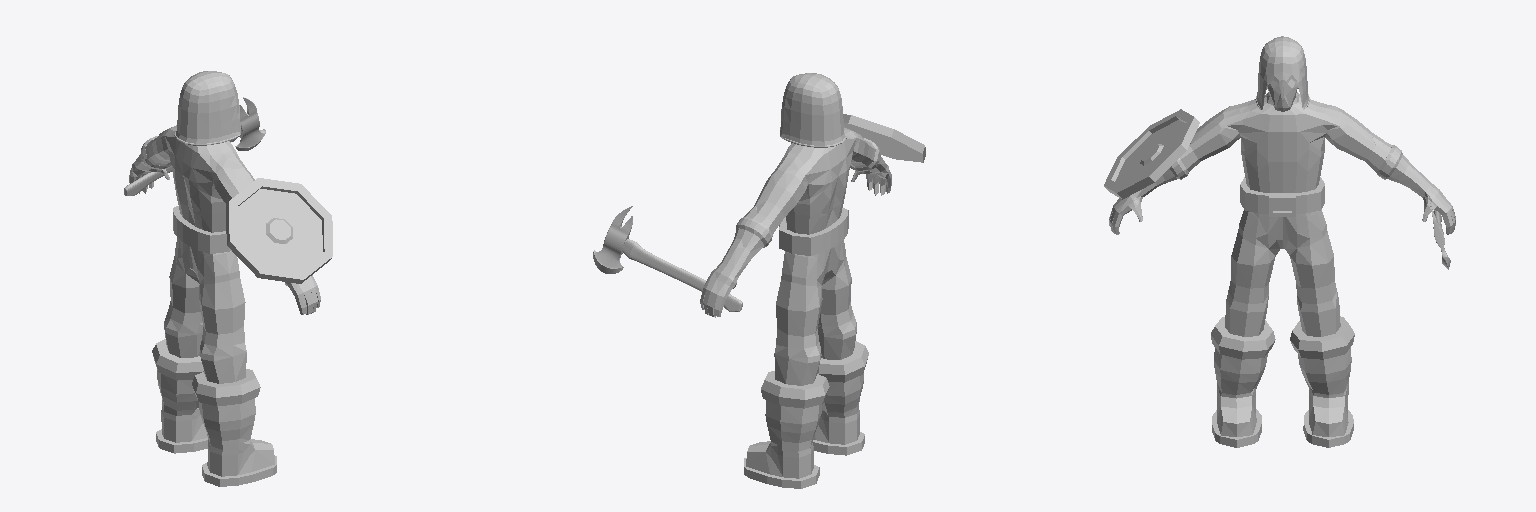
File: PiezaRoja_Ok.obj
3 views of the same model, side by side, from view 1: azimuth 30°, elevation 25°; view 2: azimuth 150°, elevation 25°; view 3: azimuth 270°, elevation 25° (orthographic).
Visible parts, largest first — view 1: Vikingo.001; view 2: Vikingo.001; view 3: Vikingo.001.
Part boxes in pixels (bbox=[...]): Vikingo.001: bbox=[124, 71, 332, 486]; Vikingo.001: bbox=[593, 73, 925, 488]; Vikingo.001: bbox=[1104, 36, 1455, 447].
Bounding box in the file's own units: 3.5 × 7.01 × 5.83.